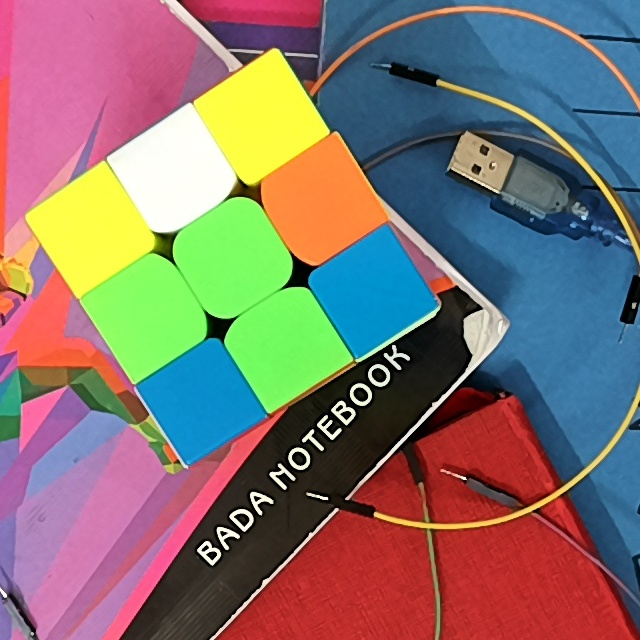tile: (284, 168, 356, 238), (198, 225, 268, 294), (112, 281, 181, 348), (341, 255, 408, 324), (225, 86, 294, 152), (57, 198, 123, 263), (171, 366, 236, 432), (139, 141, 208, 203), (252, 313, 319, 376)
